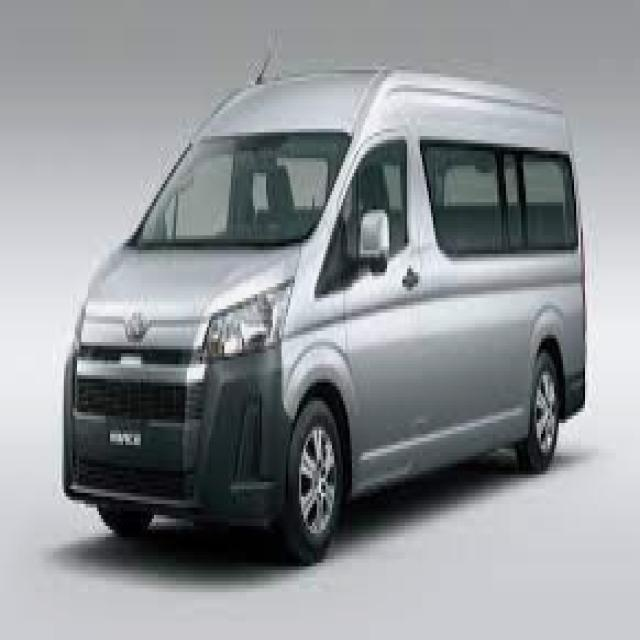Van: (58, 59, 590, 559)
